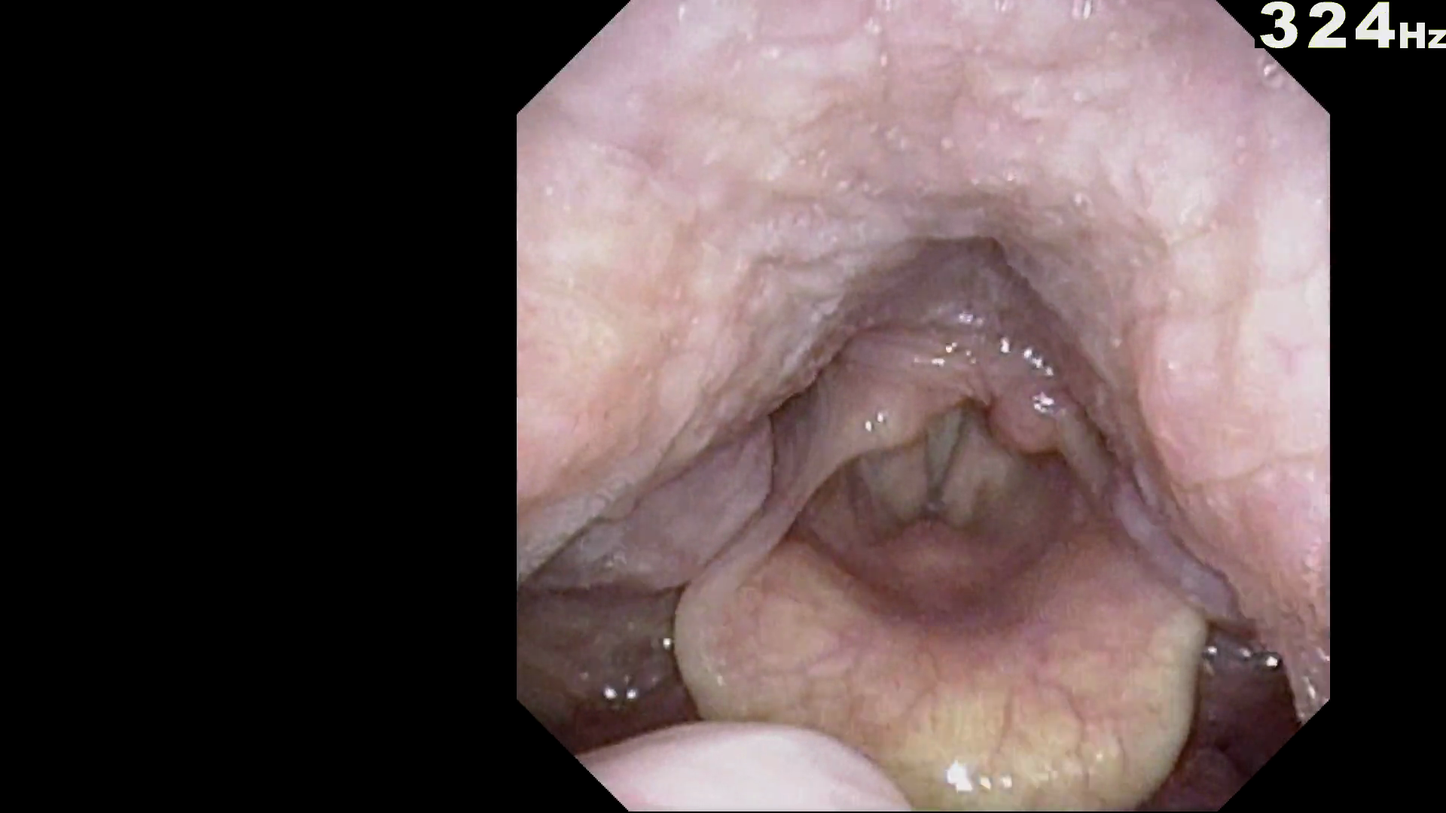epiglottis: (690, 598, 1210, 782)
trachea: (890, 415, 1033, 574)
